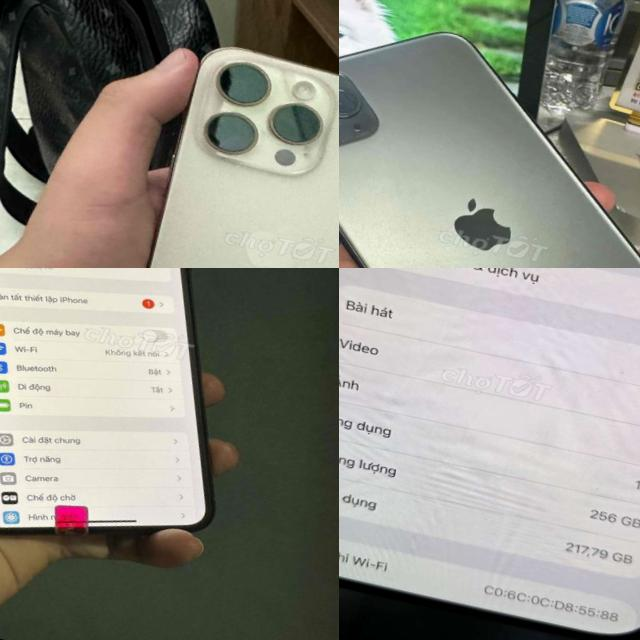gen_11: (339, 0, 640, 268)
gen_16: (339, 268, 640, 636), (147, 47, 339, 268)
gen_x_xs: (0, 268, 304, 591)
